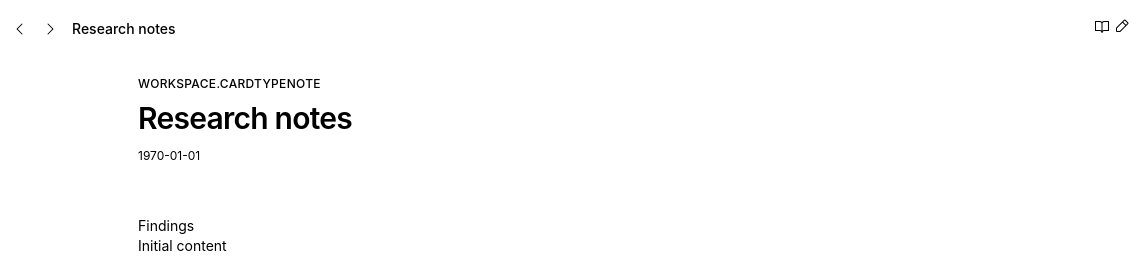
WorkspaceMarkdownView › opens in reading mode and exposes a reading/editing switch
Expected: the heading "Research notes" is shown, [138,100,352,136]
Click the button named "workspace.markdownEdit": (1122, 26) [1114,18,1130,34]
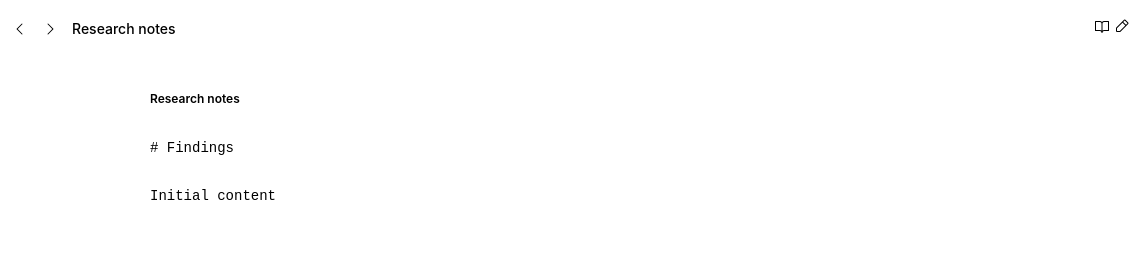
Expected: the field named "workspace.noteTitleLabel" holds "Research notes", [138,76,994,120]
